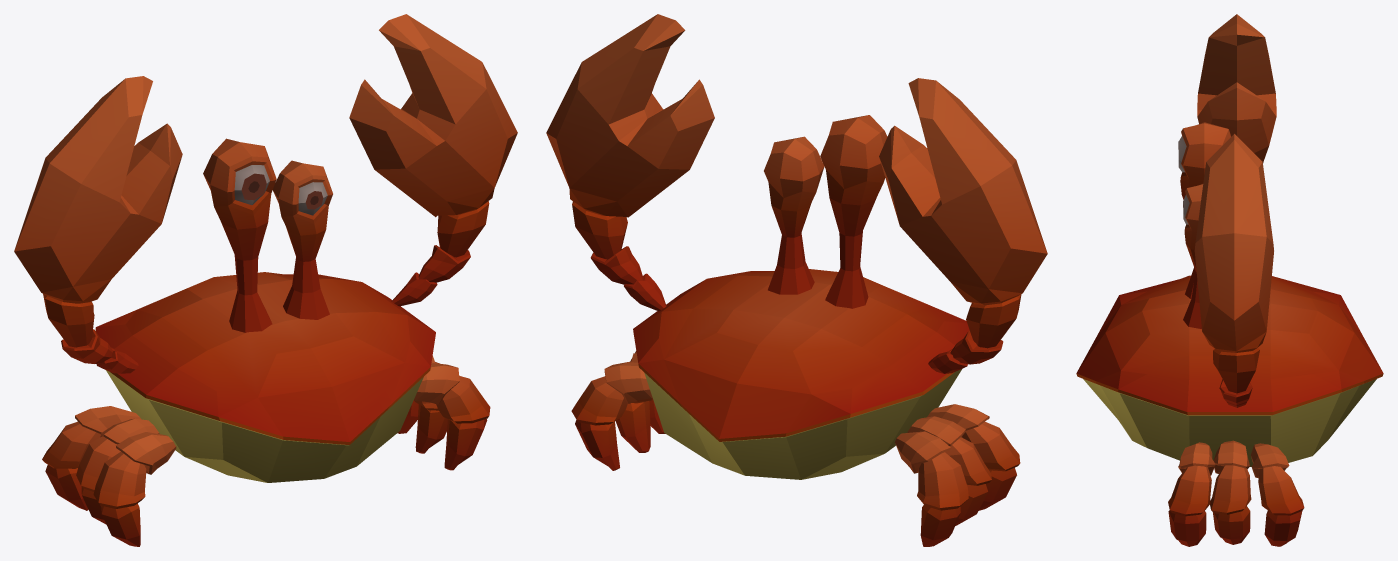
File: crab.fbx
3 renders of one model, left to right at view 1: azimuth 30°, elevation 25°; view 2: azimuth 150°, elevation 25°; view 3: azimuth 270°, elevation 25°, orthographic. The views are drawn at different scales.
Parts seen in each view (by area): view 1: crabs; view 2: crabs; view 3: crabs.
Boxes of the visible parts, x1,y1,x2,y2 form: crabs: (14,14,517,546); crabs: (546,14,1047,546); crabs: (1076,14,1383,546).
Bounding box in the file's own units: 1406 × 1190 × 825.
